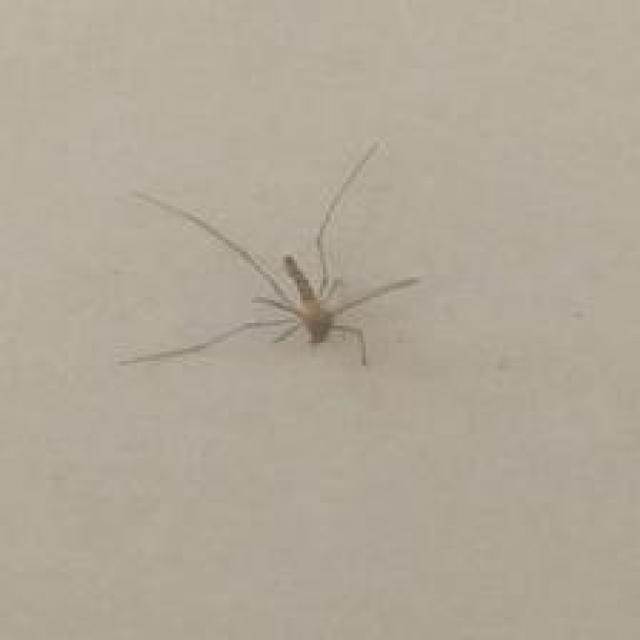Culex: (117, 139, 423, 370)
